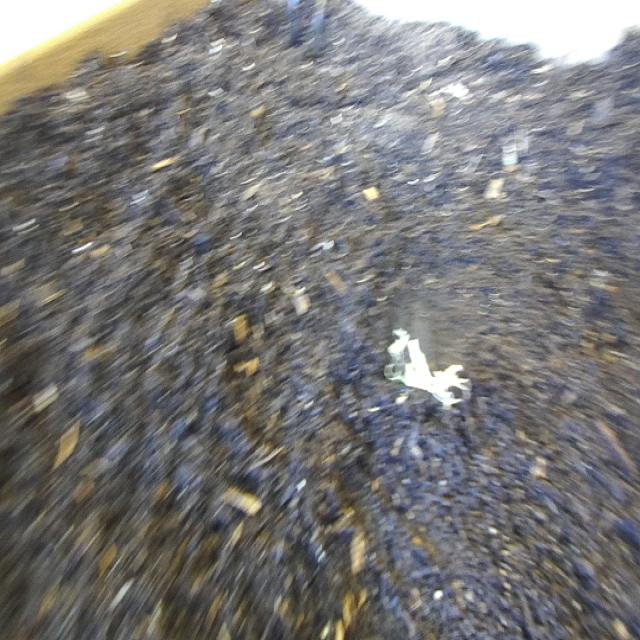Unhealthy: (382, 315, 474, 435)
